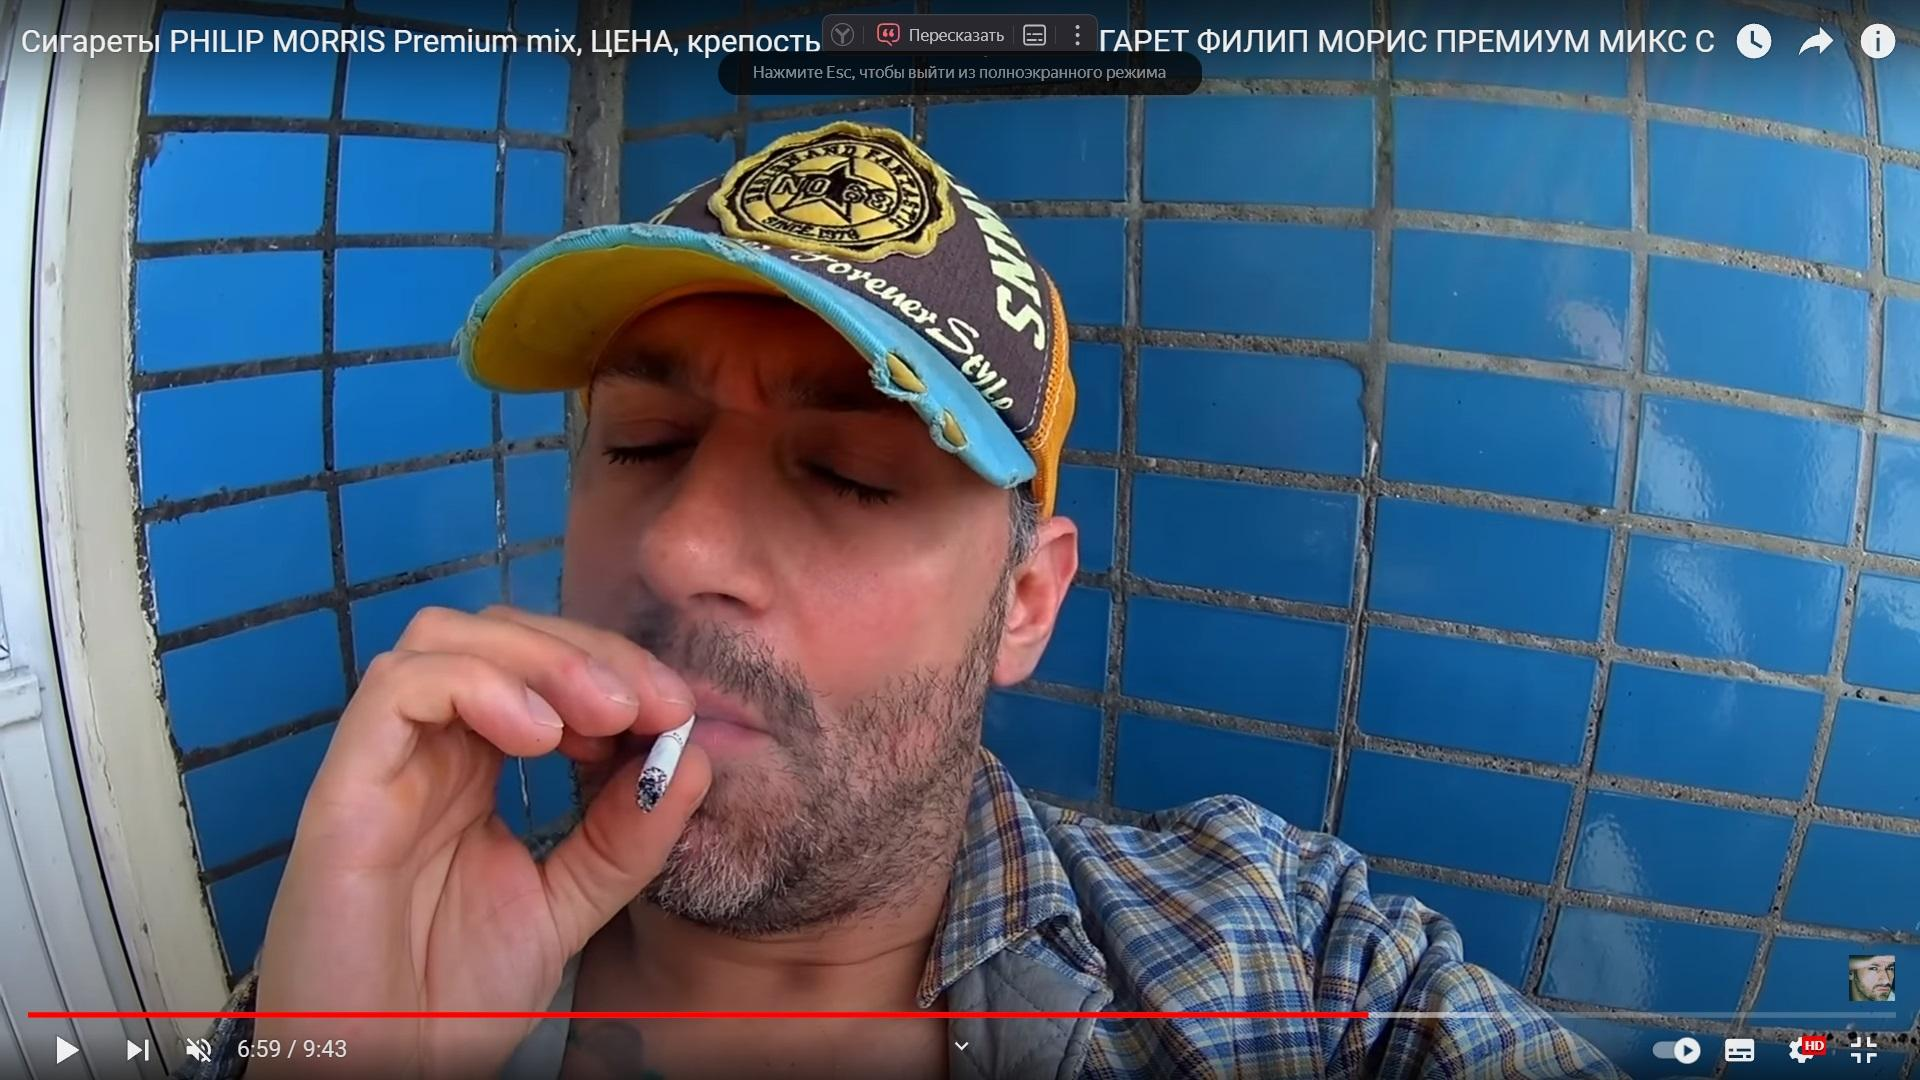cigarette: (637, 716, 694, 810)
